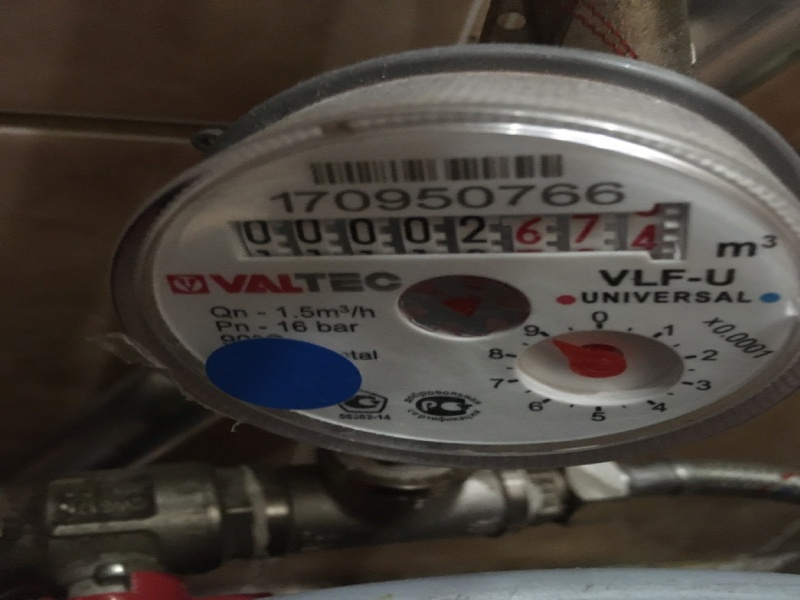meter: (221, 206, 680, 263)
